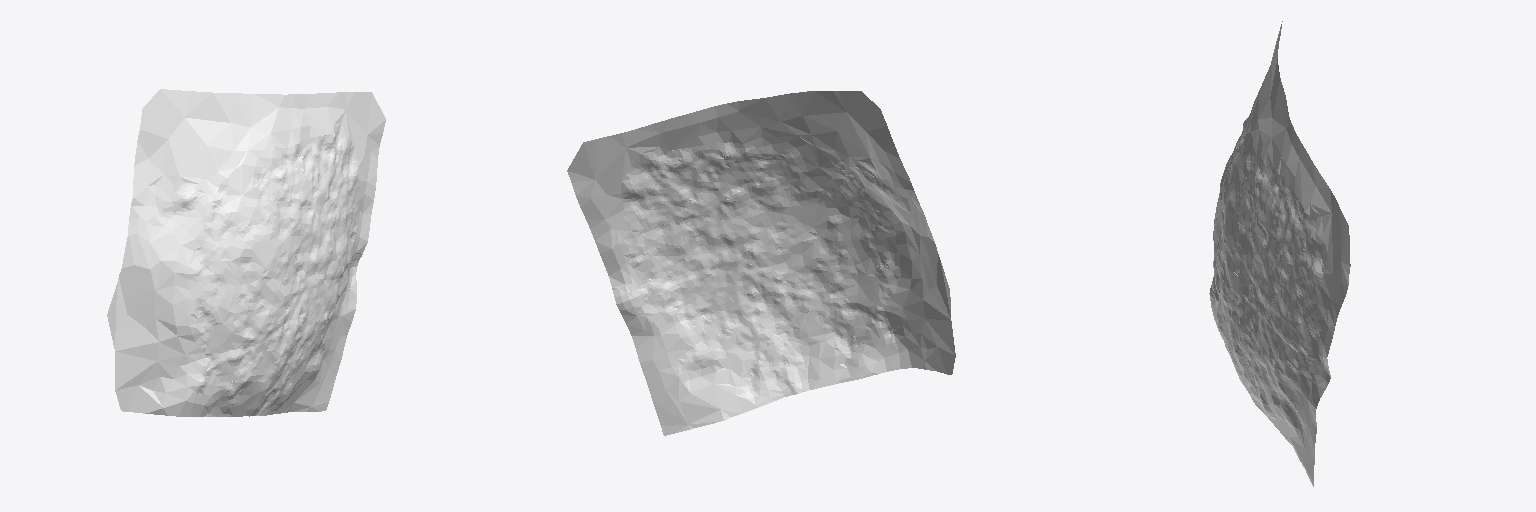
Rendered from Модель_глаза_2.obj.
The picture shows the model from 3 angles: view 1: azimuth 30°, elevation 25°; view 2: azimuth 150°, elevation 25°; view 3: azimuth 270°, elevation 25°; orthographic projection.
Bounding box in the file's own units: 0.0226 × 0.0247 × 0.0083.